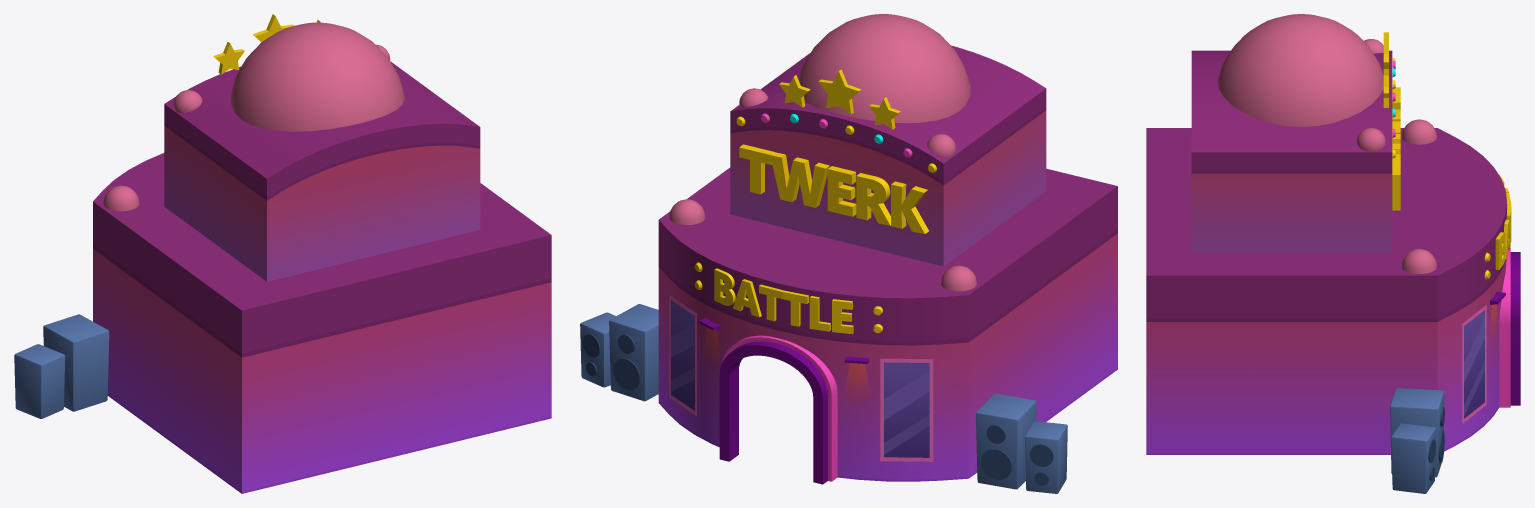
File: House.fbx
3 views of the same model, side by side, from view 1: azimuth 30°, elevation 25°; view 2: azimuth 150°, elevation 25°; view 3: azimuth 270°, elevation 25° (orthographic). The views are drawn at different scales.
Parts seen in each view (by area): view 1: House; view 2: House; view 3: House.
Boxes of the visible parts, <box> form: House: <box>14,14,551,493</box>; House: <box>580,14,1117,493</box>; House: <box>1146,14,1520,493</box>.
Size of the model in its own units: 3419 by 2509 by 2369.
Materials: 1 (1 with a texture image).
